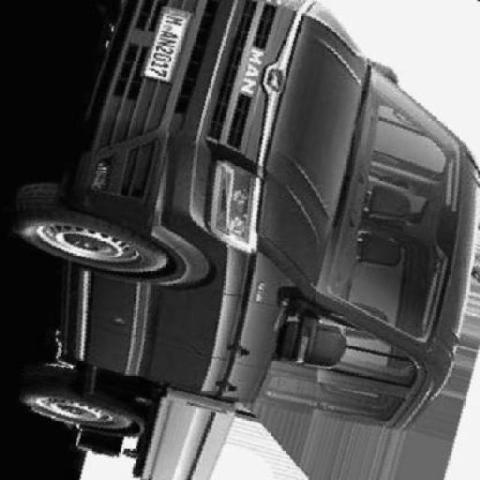van: (18, 0, 480, 474)
